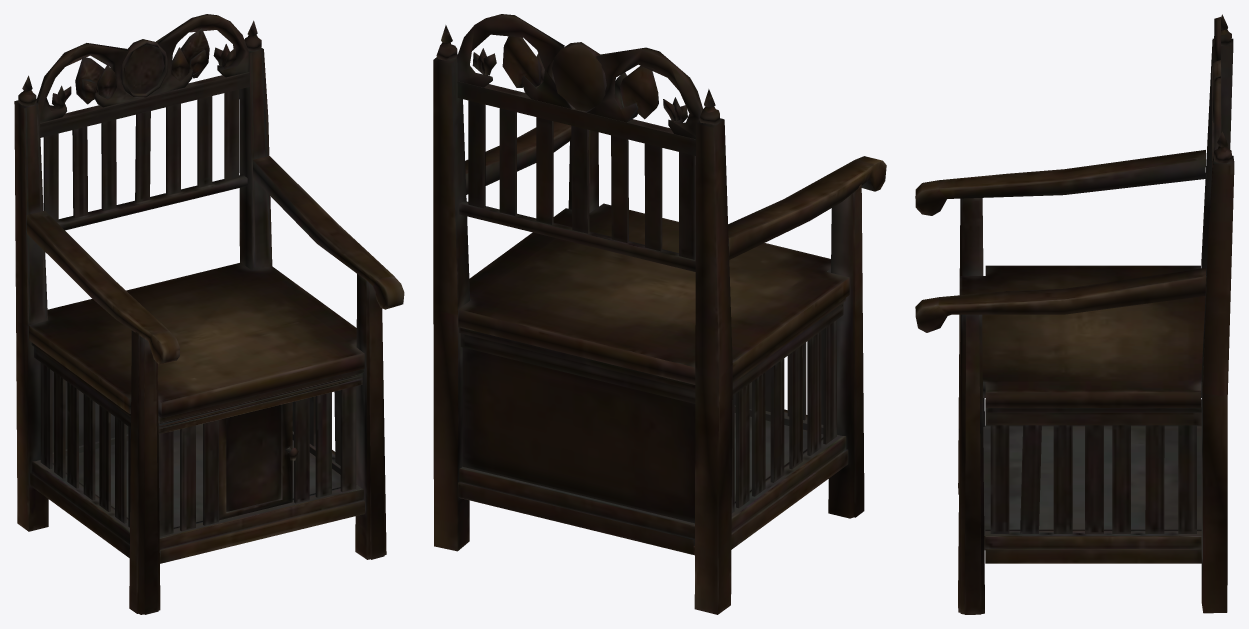
The model's file is gallinera_chair.glb.
3 renders of one model, left to right at view 1: azimuth 30°, elevation 25°; view 2: azimuth 150°, elevation 25°; view 3: azimuth 270°, elevation 25°, orthographic. The views are drawn at different scales.
Visible parts, largest first — view 1: gallinera_chair; view 2: gallinera_chair; view 3: gallinera_chair.
Part boxes in pixels (x1,y1,x2,y2): gallinera_chair: [14, 14, 404, 614]; gallinera_chair: [433, 14, 886, 614]; gallinera_chair: [915, 14, 1234, 614].
Bounding box in the file's own units: 0.58 × 1.03 × 0.5997.
Materials: 1 (1 with a texture image).
